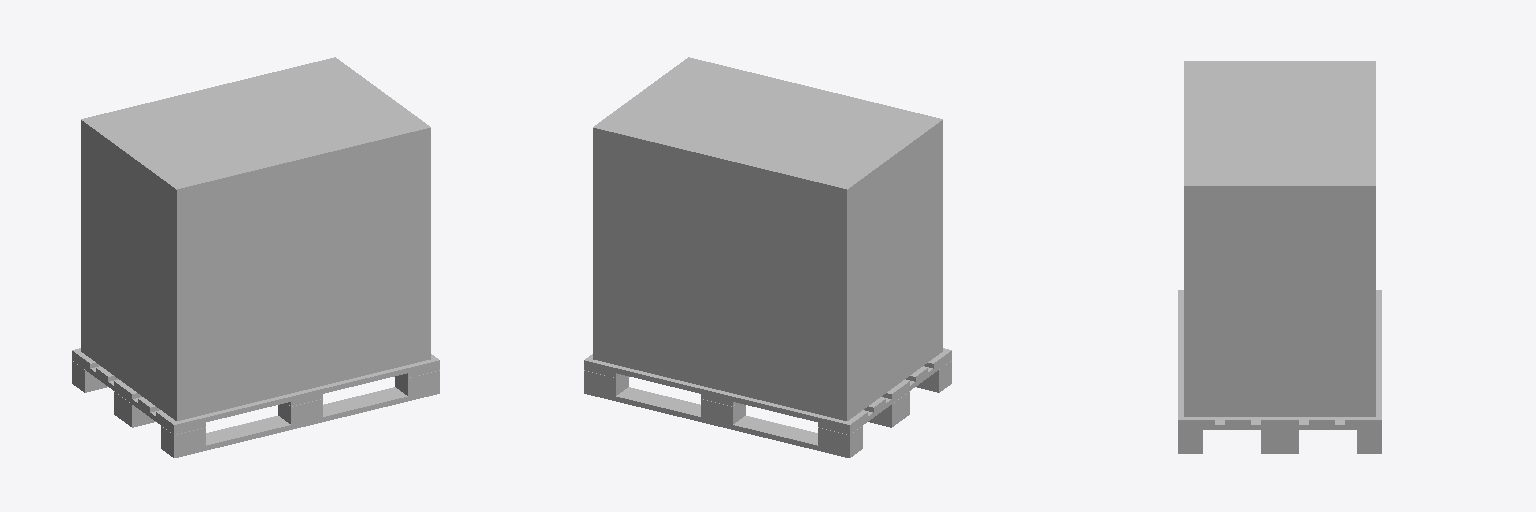
3 views of the same model, side by side, from view 1: azimuth 30°, elevation 25°; view 2: azimuth 150°, elevation 25°; view 3: azimuth 270°, elevation 25° (orthographic).
Parts seen in each view (by area): view 1: Box, ImportedMesh1; view 2: Box, ImportedMesh1; view 3: Box, ImportedMesh1.
Boxes of the visible parts, <box> form: Box: <box>81,57,430,420</box>; ImportedMesh1: <box>72,348,439,457</box>; Box: <box>593,57,942,420</box>; ImportedMesh1: <box>584,348,951,457</box>; Box: <box>1184,61,1375,416</box>; ImportedMesh1: <box>1178,290,1381,453</box>.
Size of the model in its own units: 1.2 by 1.14 by 0.8.